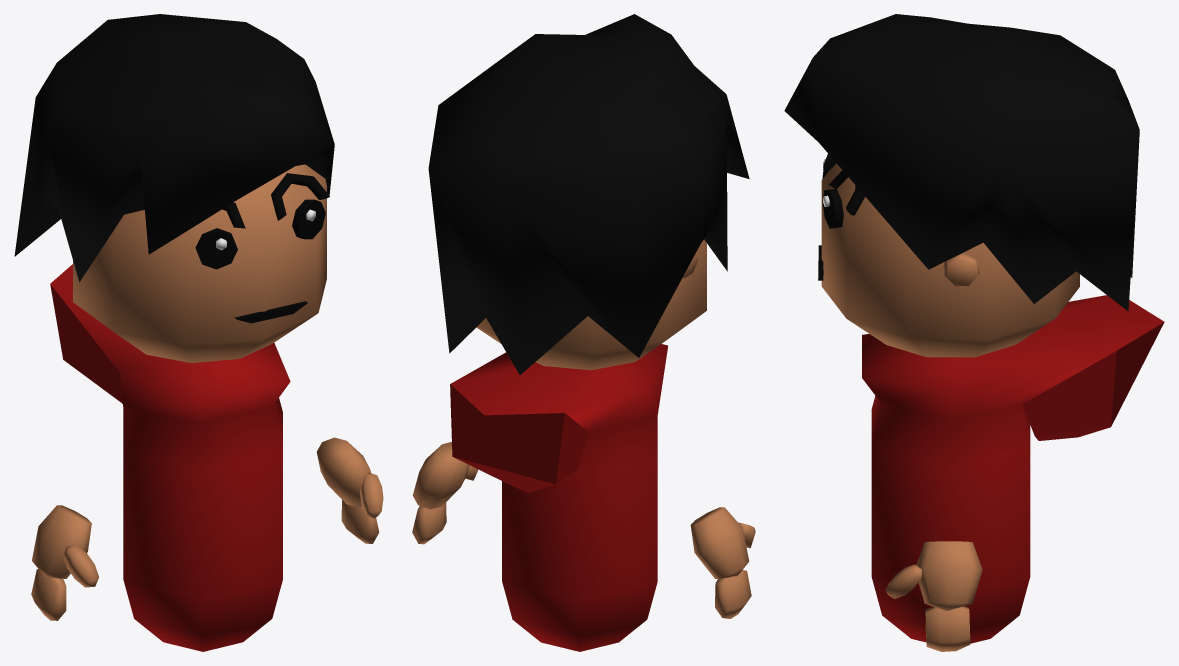
The model's file is hombre_1.fbx.
3 renders of one model, left to right at view 1: azimuth 30°, elevation 25°; view 2: azimuth 150°, elevation 25°; view 3: azimuth 270°, elevation 25°, orthographic. The views are drawn at different scales.
Parts seen in each view (by area): view 1: Pelo, Sudadera, Cabeza, Palma Izquerda001, Palma Izquerda, Dedos Izquierdos001, Ojo Derecho, Dedos Izquierdos, DedoPulga Izquierdo001, Ceja Izquierda, Ojo Izquierdo, DedoPulga Izquierdo (+1 smaller); view 2: Pelo, Sudadera, Cabeza, Palma Izquerda001, Palma Izquerda, Dedos Izquierdos001, Dedos Izquierdos; view 3: Pelo, Sudadera, Cabeza, Palma Izquerda, Dedos Izquierdos, Oreja Derecha001, DedoPulga Izquierdo, Ojo Izquierdo.
Part boxes in pixels (x1,y1,x2,y2): Pelo: [14, 14, 334, 282]; Sudadera: [50, 264, 290, 651]; Cabeza: [73, 164, 326, 363]; Palma Izquerda001: [32, 505, 91, 578]; Palma Izquerda: [316, 437, 370, 507]; Dedos Izquierdos001: [31, 569, 66, 620]; Ojo Derecho: [195, 228, 237, 269]; Dedos Izquierdos: [341, 500, 379, 543]; DedoPulga Izquierdo001: [63, 545, 98, 587]; Ceja Izquierda: [271, 173, 329, 220]; Ojo Izquierdo: [292, 199, 325, 239]; DedoPulga Izquierdo: [360, 473, 383, 518]; Pelo: [428, 14, 749, 374]; Sudadera: [450, 344, 667, 651]; Cabeza: [476, 239, 706, 370]; Palma Izquerda001: [690, 507, 749, 578]; Palma Izquerda: [413, 442, 469, 509]; Dedos Izquierdos001: [715, 570, 751, 618]; Dedos Izquierdos: [412, 502, 446, 544]; Pelo: [784, 14, 1139, 311]; Sudadera: [862, 295, 1164, 643]; Cabeza: [821, 163, 1079, 357]; Palma Izquerda: [916, 541, 982, 610]; Dedos Izquierdos: [925, 606, 970, 651]; Oreja Derecha001: [942, 253, 979, 286]; DedoPulga Izquierdo: [885, 564, 921, 598]; Ojo Izquierdo: [822, 189, 843, 228].
Size of the model in its own units: 1.41 by 2.43 by 1.39.
